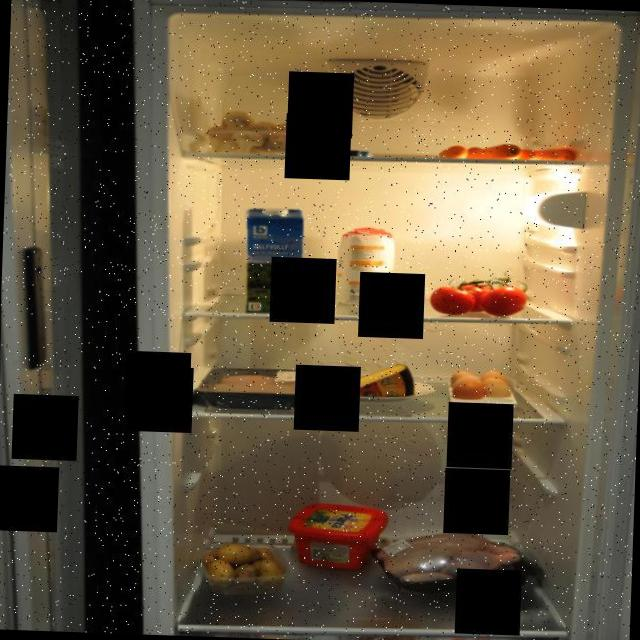Carne pollo: (367, 521, 547, 603), (190, 362, 318, 412)
Champiñones: (200, 106, 304, 156)
Huevos: (442, 366, 521, 406)
Leche: (236, 205, 307, 315)
Mantequilla: (284, 498, 392, 574)
Patata: (196, 539, 290, 596)
Queso: (328, 358, 416, 400)
Tomate: (426, 260, 534, 318)
Zanahoria: (433, 137, 583, 164)
